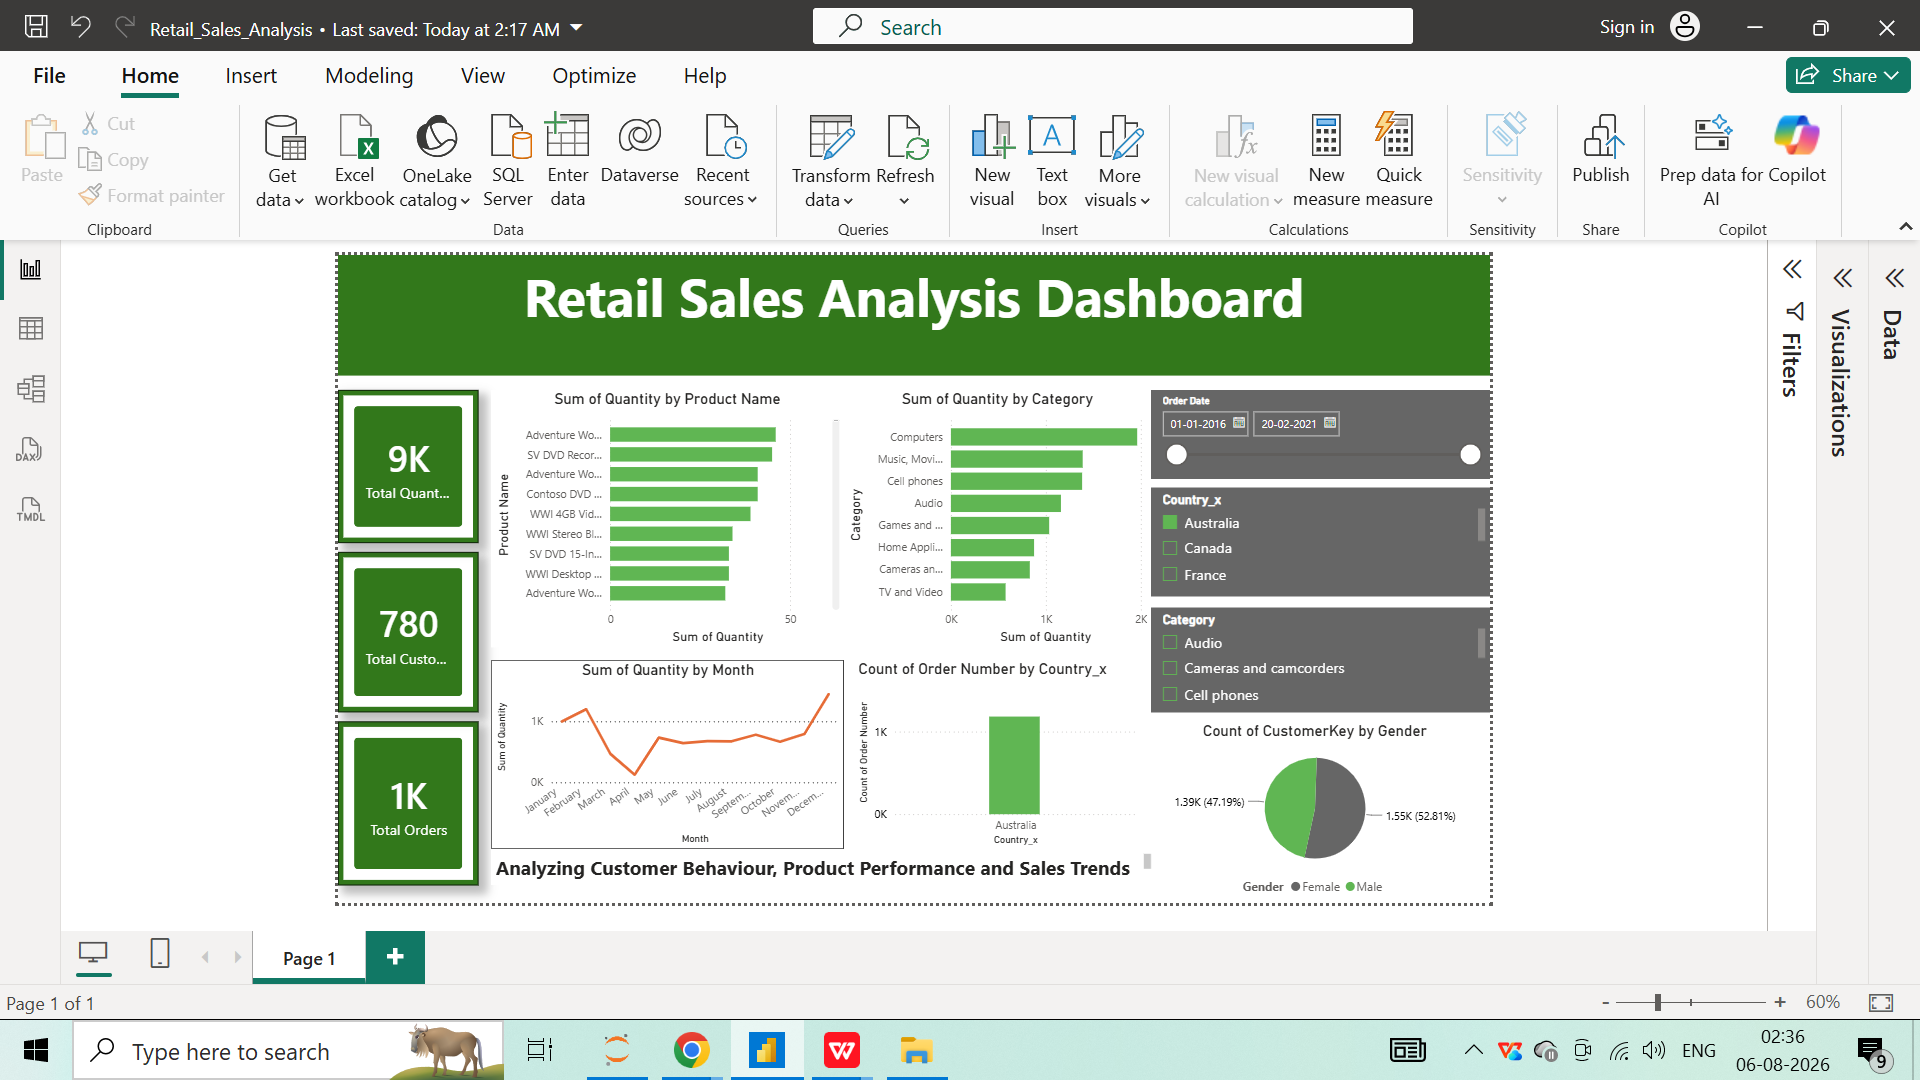

The dashboard page shown, as its layout file describes it:
{"tool":"powerbi","page":{"name":"Page 1","canvas":[1280,720],"ordinal":0},"visuals":[{"type":"cardVisual","fields":{"Data":["cleaned_retail_sales.Total Orders"]},"box":[0,518,156,182],"z":0},{"type":"cardVisual","fields":{"Data":["cleaned_retail_sales.Total Customers"]},"box":[0,330,156,178],"z":1000},{"type":"cardVisual","fields":{"Data":["cleaned_retail_sales.Total Quantity Sold"]},"box":[0,150,156,170],"z":2000},{"type":"clusteredBarChart","fields":{"Y":["Sum(cleaned_retail_sales.Quantity)"],"Category":["cleaned_retail_sales.Category"]},"box":[562,150,342,286],"z":3000},{"type":"clusteredBarChart","fields":{"Y":["Sum(cleaned_retail_sales.Quantity)"],"Category":["cleaned_retail_sales.Product Name"]},"box":[170,150,392,286],"z":4000},{"type":"clusteredColumnChart","fields":{"Category":["cleaned_retail_sales.Country_x"],"Y":["Count(cleaned_retail_sales.Order Number)"]},"box":[574,450,318,210],"z":5000},{"type":"lineChart","fields":{"Category":["cleaned_retail_sales.Order Date.Variation.Date Hierarchy.Month"],"Y":["Sum(cleaned_retail_sales.Quantity)"]},"box":[170,450,392,210],"z":6000},{"type":"pieChart","fields":{"Category":["cleaned_retail_sales.Gender"],"Y":["CountNonNull(cleaned_retail_sales.CustomerKey)"]},"box":[904,518,364,202],"z":7000},{"type":"slicer","fields":{"Values":["cleaned_retail_sales.Category"]},"box":[904,392,376,116],"z":8000},{"type":"slicer","fields":{"Values":["cleaned_retail_sales.Country_x"]},"box":[904,258,376,120],"z":9000},{"type":"slicer","fields":{"Values":["cleaned_retail_sales.Order Date"]},"box":[904,150,376,98],"z":10000},{"type":"textbox","box":[0,0,1280,134],"z":11000},{"type":"textbox","box":[170,660,738,40],"z":12000}]}

Visuals, with their boxes on the page's 1280x720 design canvas (x1, y1, x2, y2). These are canvas units, not pixel positions in the 1920x1080 screenshot, which may show the page scaled, cropped or inside an application window:
cardVisual - cleaned_retail_sales.Total Orders: [left=0, top=518, right=156, bottom=700]
cardVisual - cleaned_retail_sales.Total Customers: [left=0, top=330, right=156, bottom=508]
cardVisual - cleaned_retail_sales.Total Quantity Sold: [left=0, top=150, right=156, bottom=320]
clusteredBarChart - Sum(cleaned_retail_sales.Quantity) x cleaned_retail_sales.Category: [left=562, top=150, right=904, bottom=436]
clusteredBarChart - Sum(cleaned_retail_sales.Quantity) x cleaned_retail_sales.Product Name: [left=170, top=150, right=562, bottom=436]
clusteredColumnChart - cleaned_retail_sales.Country_x x Count(cleaned_retail_sales.Order Number): [left=574, top=450, right=892, bottom=660]
lineChart - cleaned_retail_sales.Order Date.Variation.Date Hierarchy.Month x Sum(cleaned_retail_sales.Quantity): [left=170, top=450, right=562, bottom=660]
pieChart - cleaned_retail_sales.Gender x CountNonNull(cleaned_retail_sales.CustomerKey): [left=904, top=518, right=1268, bottom=720]
slicer - cleaned_retail_sales.Category: [left=904, top=392, right=1280, bottom=508]
slicer - cleaned_retail_sales.Country_x: [left=904, top=258, right=1280, bottom=378]
slicer - cleaned_retail_sales.Order Date: [left=904, top=150, right=1280, bottom=248]
textbox: [left=0, top=0, right=1280, bottom=134]
textbox: [left=170, top=660, right=908, bottom=700]
